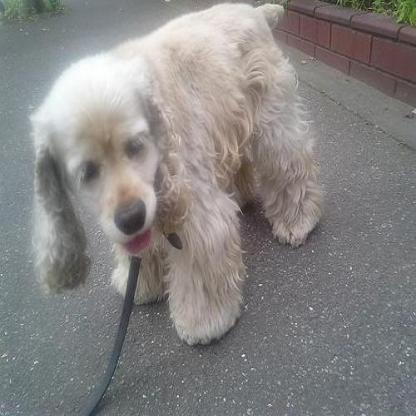cocker_spaniel: (29, 1, 325, 345)
